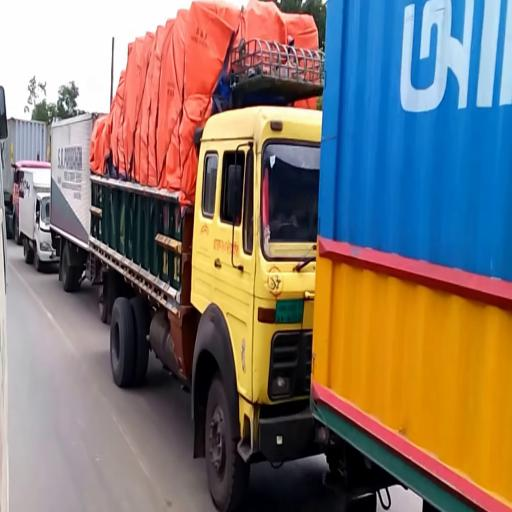pickup: (19, 167, 60, 274)
truck: (90, 3, 326, 512), (48, 113, 103, 291), (4, 117, 50, 246)
